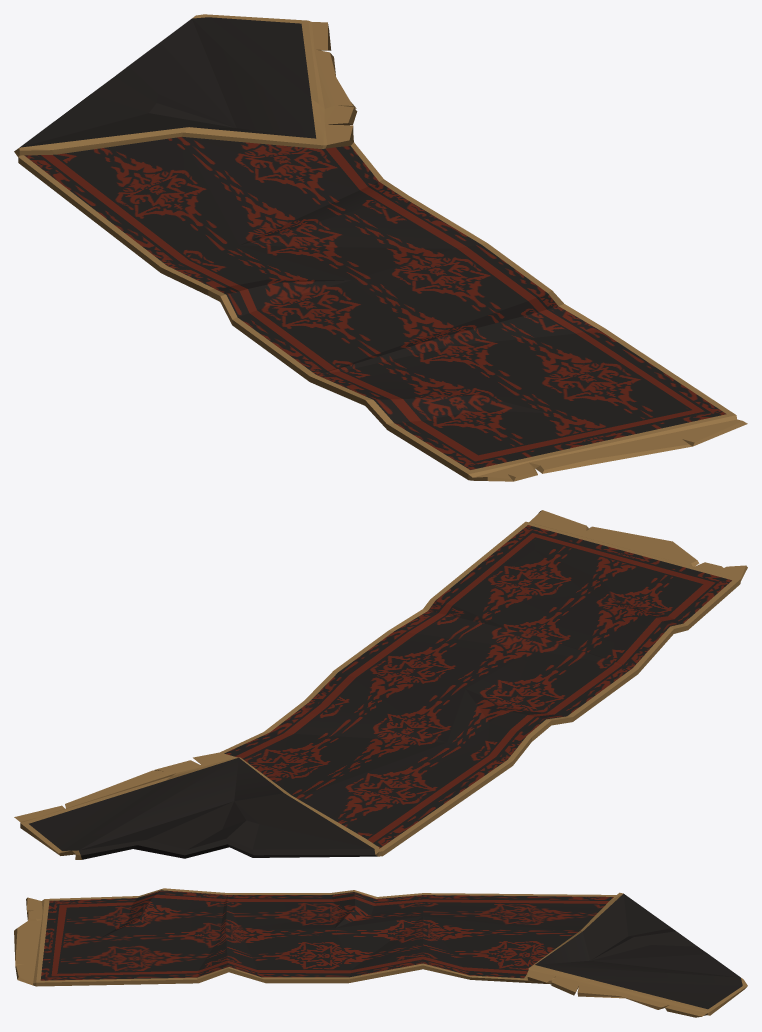
Rendered from crypt_rug_b.gltf.
3 renders of one model, top to bottom at view 1: azimuth 30°, elevation 25°; view 2: azimuth 150°, elevation 25°; view 3: azimuth 270°, elevation 25°, orthographic. The views are drawn at different scales.
Visible parts, largest first — view 1: crypt_rug_b; view 2: crypt_rug_b; view 3: crypt_rug_b.
Boxes of the visible parts, left/top/right/bottom form: crypt_rug_b: left=14, top=14, right=747, bottom=481; crypt_rug_b: left=14, top=510, right=747, bottom=859; crypt_rug_b: left=14, top=888, right=747, bottom=1017.
Size of the model in its own units: 1.43 by 0.1011 by 3.64.
Materials: 1 (1 with a texture image).
